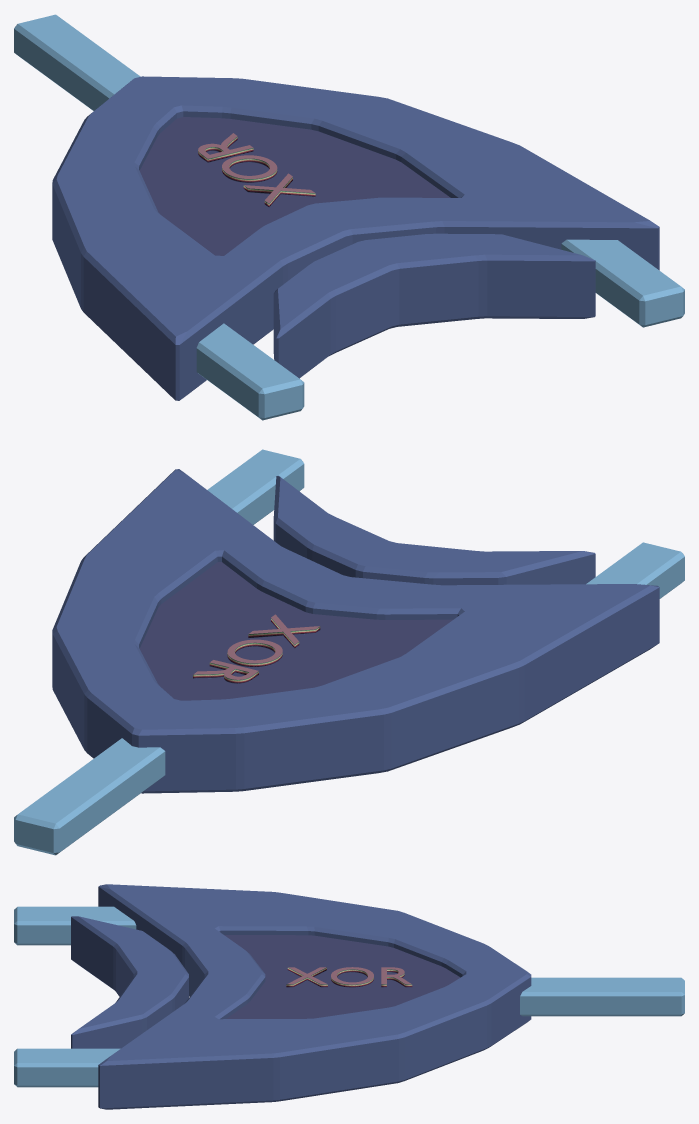
File: Assets_Gates.fbx_XOR.fbx
3 renders of one model, top to bottom at view 1: azimuth 30°, elevation 25°; view 2: azimuth 150°, elevation 25°; view 3: azimuth 270°, elevation 25°, orthographic. The views are drawn at different scales.
Visible parts, largest first — view 1: XOR.001, Text.004; view 2: XOR.001, Text.004; view 3: XOR.001, Text.004.
Boxes of the visible parts, left/top/right/bottom form: XOR.001: left=14, top=14, right=684, bottom=420; Text.004: left=198, top=133, right=315, bottom=207; XOR.001: left=14, top=449, right=684, bottom=855; Text.004: left=193, top=614, right=320, bottom=683; XOR.001: left=14, top=884, right=684, bottom=1109; Text.004: left=286, top=967, right=412, bottom=987.
Size of the model in its own units: 254 by 32 by 400.
